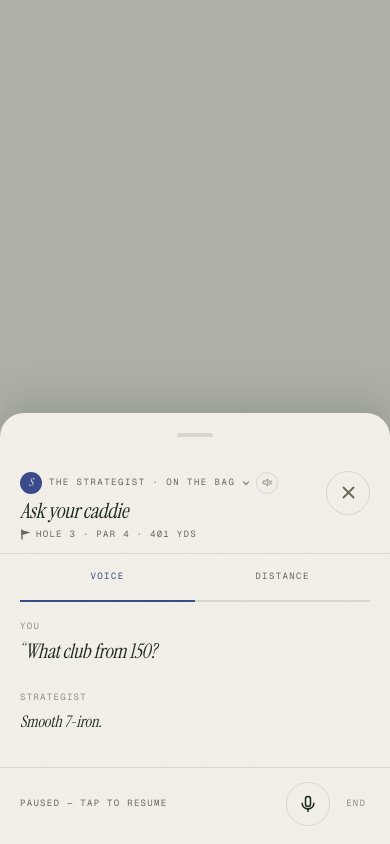
CaddieSheet live mode — Slice E idle suspend/resume › suspend -> resume -> suspend-again cycle
The width and height of the screenshot is (390, 844).
Click the button named "Resume listening" at (308, 804), box [286,782,330,826]
Wait 90000 ms
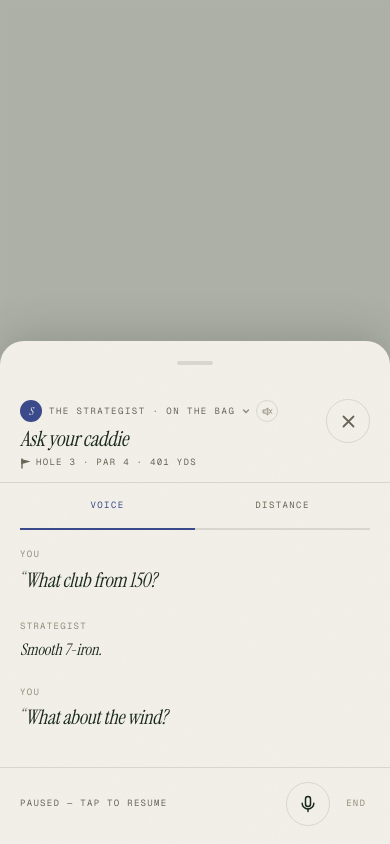
Expected: the text "What club from 150?" is shown, [25,567,156,593]
Expected: the text "What about the wind?" is shown, [25,704,167,730]
